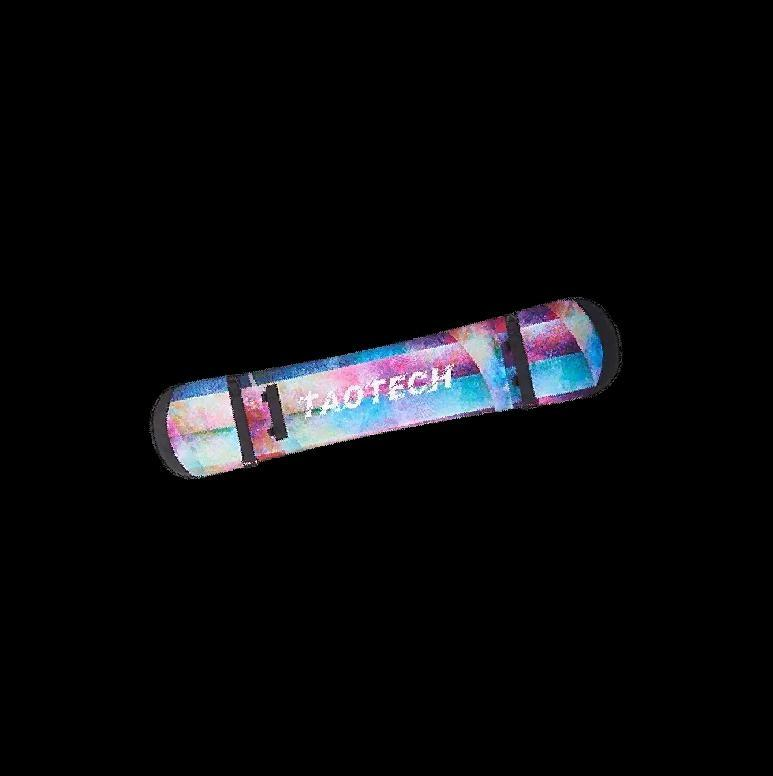Snowboard: (149, 294, 623, 480)
